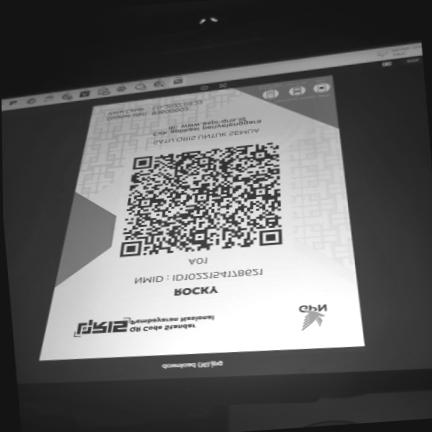Cara Pakai QRIS: (255, 74, 335, 107)
Cek Aplikasi Penyelenggara: (148, 112, 265, 138)
Dicetak Oleh: (105, 106, 190, 121)
Logo GPN: (292, 299, 333, 334)
Logo dan deskripsi QRIS: (66, 309, 220, 340)
Nama Merchant: (167, 283, 224, 299)
National Merchant ID: (128, 264, 268, 286)
QR Code: (112, 137, 291, 261)
Slogan: (150, 126, 261, 146)
Terminal ID: (186, 255, 211, 266)
Versi Cetak: (105, 98, 205, 116)
